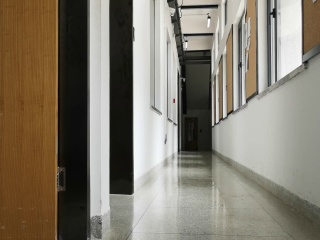room: (2, 3, 93, 239), (107, 3, 138, 201)
